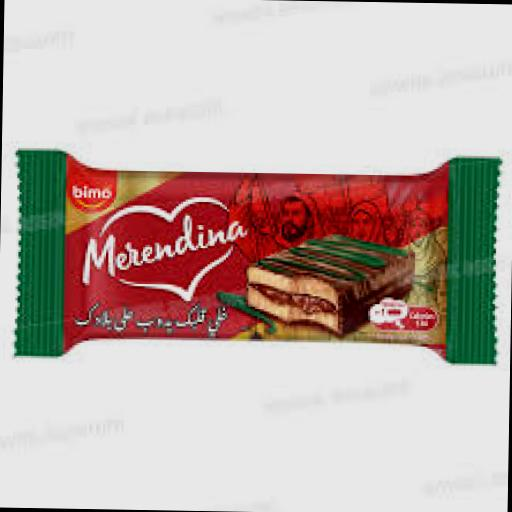merendina: (5, 128, 504, 389)
